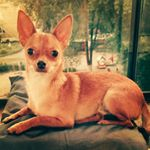puppy: (9, 7, 83, 138)
